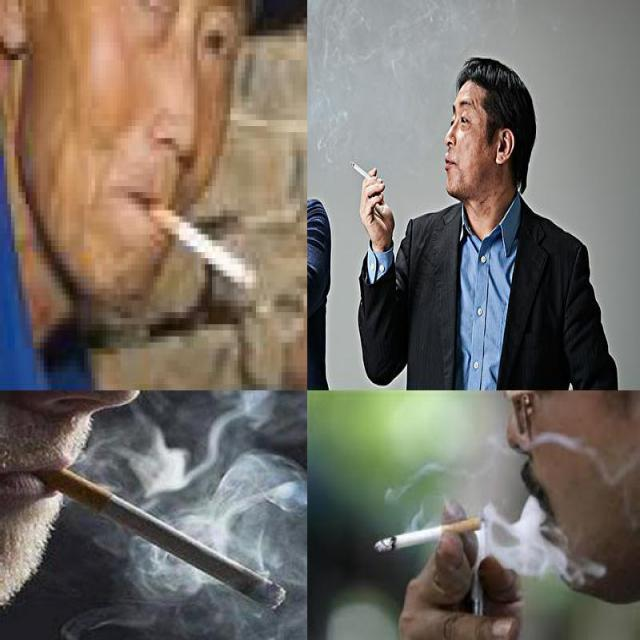smoke: (39, 466, 288, 612), (148, 200, 256, 292), (374, 518, 482, 554), (350, 160, 376, 186)
